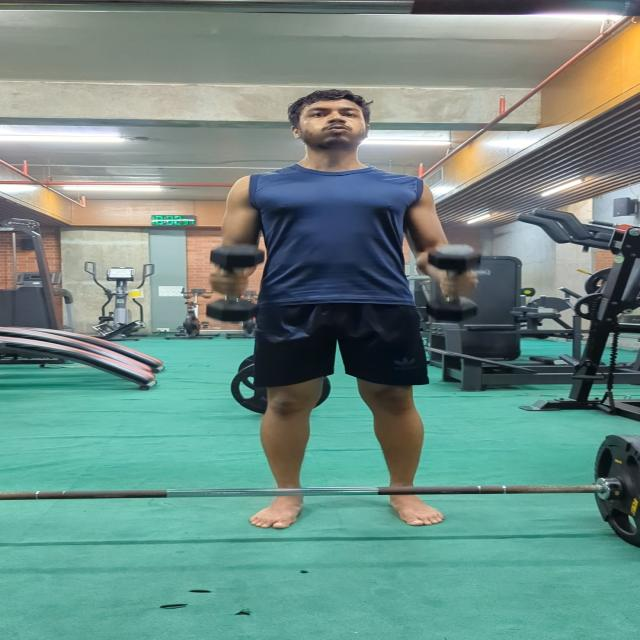Normal_DumbbellBicepCurls: (188, 84, 499, 546)
